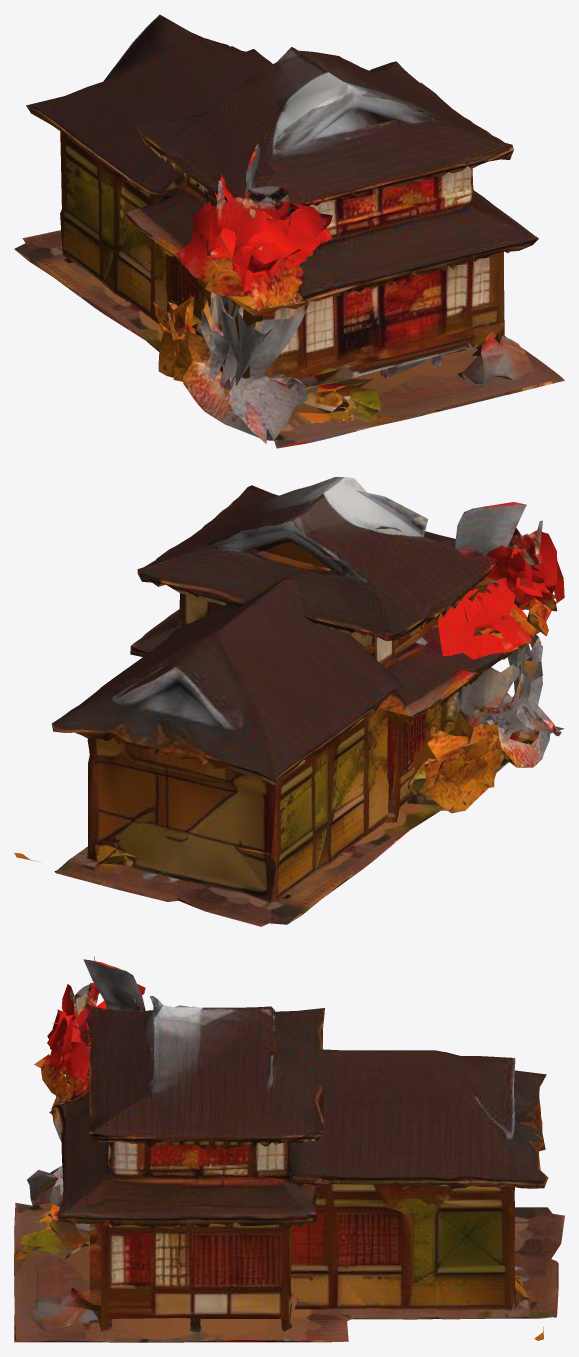
Rendered from ruriko-in.glb.
The picture shows the model from 3 angles, top to bottom: view 1: azimuth 30°, elevation 25°; view 2: azimuth 150°, elevation 25°; view 3: azimuth 270°, elevation 25°; orthographic projection.
Visible parts, largest first — view 1: logan-textured.obj; view 2: logan-textured.obj; view 3: logan-textured.obj.
Boxes of the visible parts, x1,y1,x2,y2 form: logan-textured.obj: [14, 14, 564, 448]; logan-textured.obj: [14, 477, 564, 926]; logan-textured.obj: [14, 956, 564, 1342].
Size of the model in its own units: 0.6486 by 0.5586 by 1.
Materials: 1 (1 with a texture image).
